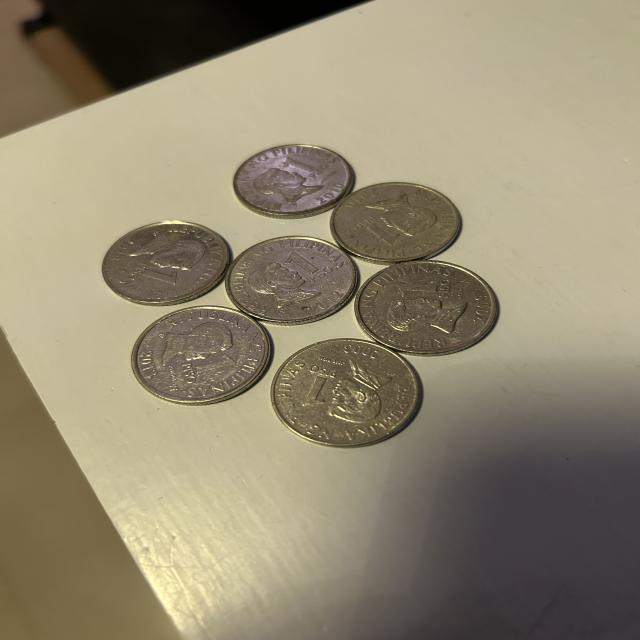1_Old_Front: (123, 258, 199, 302), (344, 209, 396, 254), (296, 367, 340, 418), (169, 354, 238, 386), (393, 276, 453, 311), (278, 152, 332, 187), (288, 254, 330, 284)
